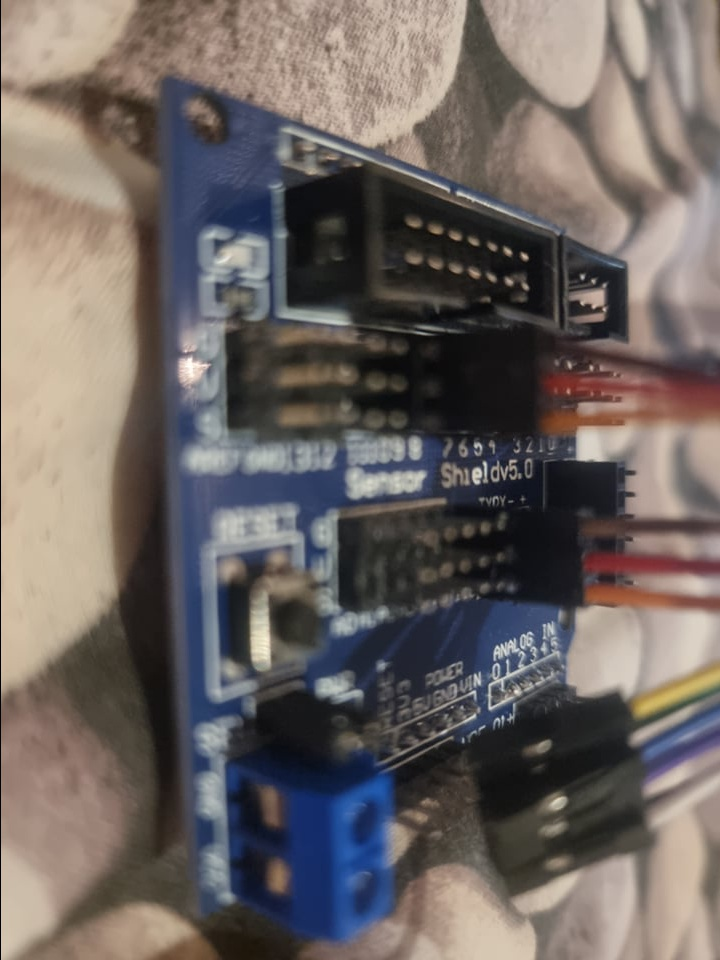5V EXPANSION: (167, 76, 682, 948)
